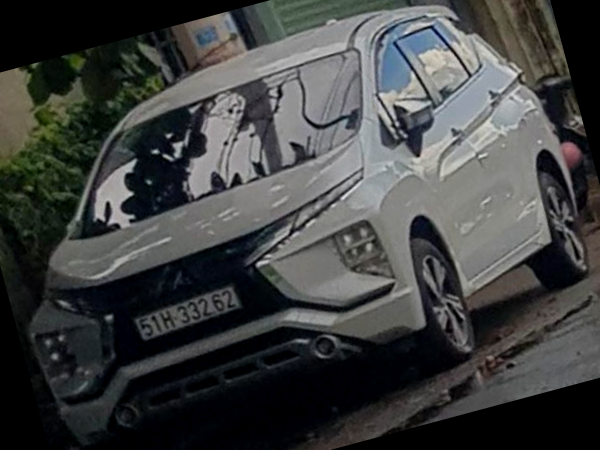lisence: (136, 287, 240, 341)
